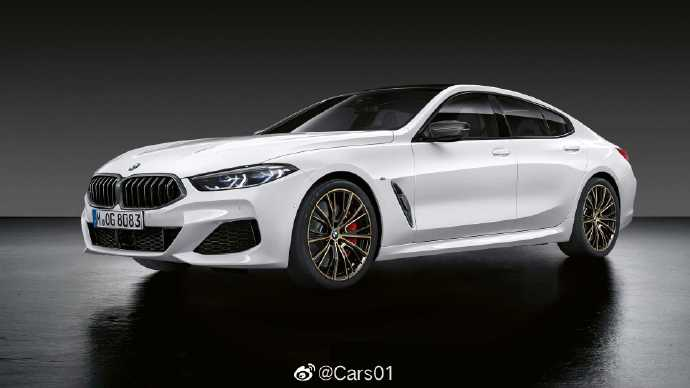other: (82, 84, 652, 286)
